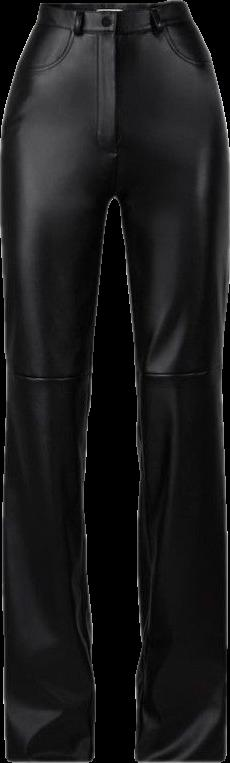Hemline: (133, 750, 228, 762), (5, 750, 97, 762)
Pantleg: (109, 0, 229, 761), (0, 0, 115, 762)
Waistline: (30, 15, 195, 37), (40, 0, 185, 17), (133, 359, 224, 380), (5, 365, 93, 384)
